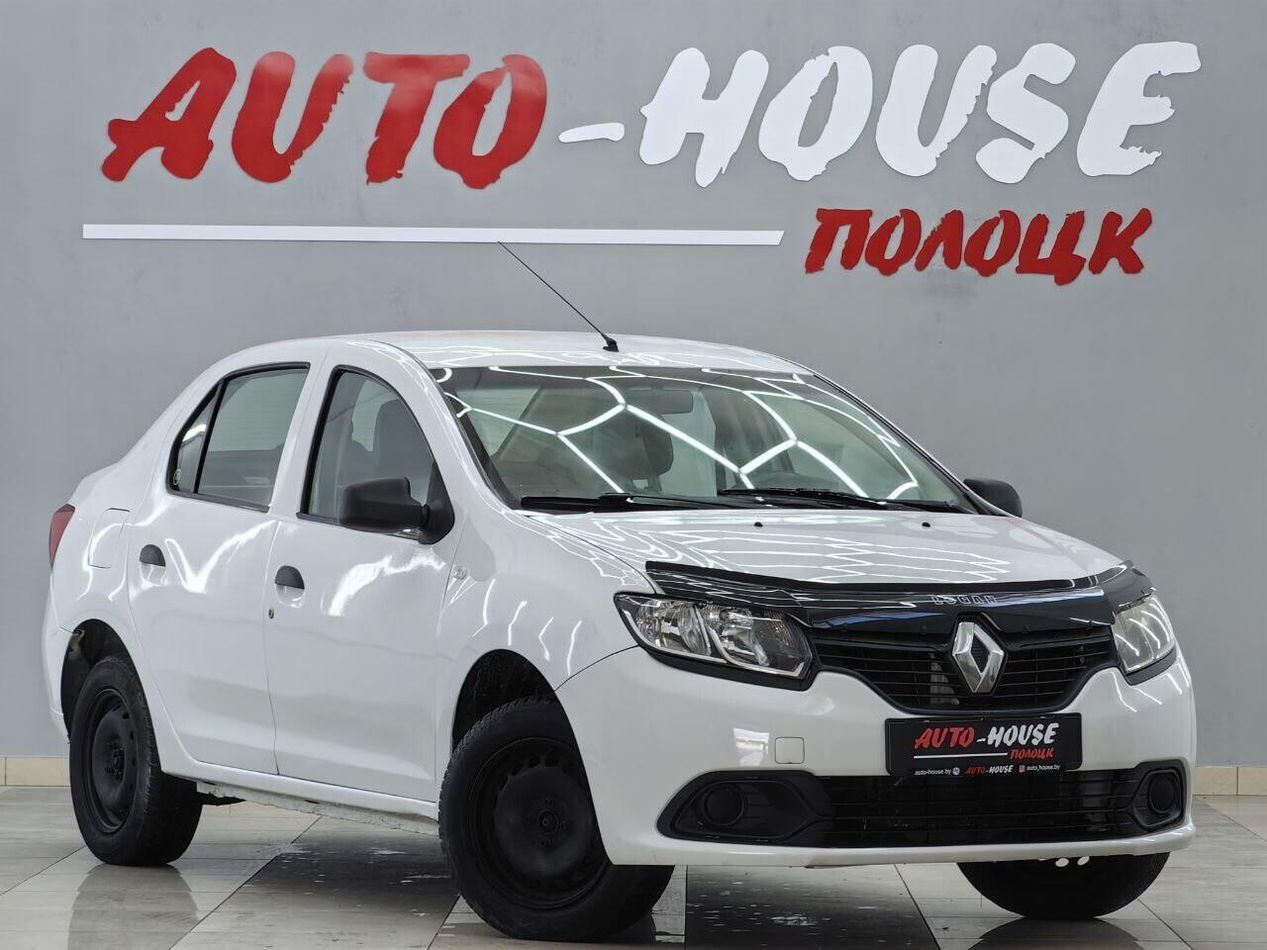Logan_2013-2018: (37, 323, 1201, 950)
